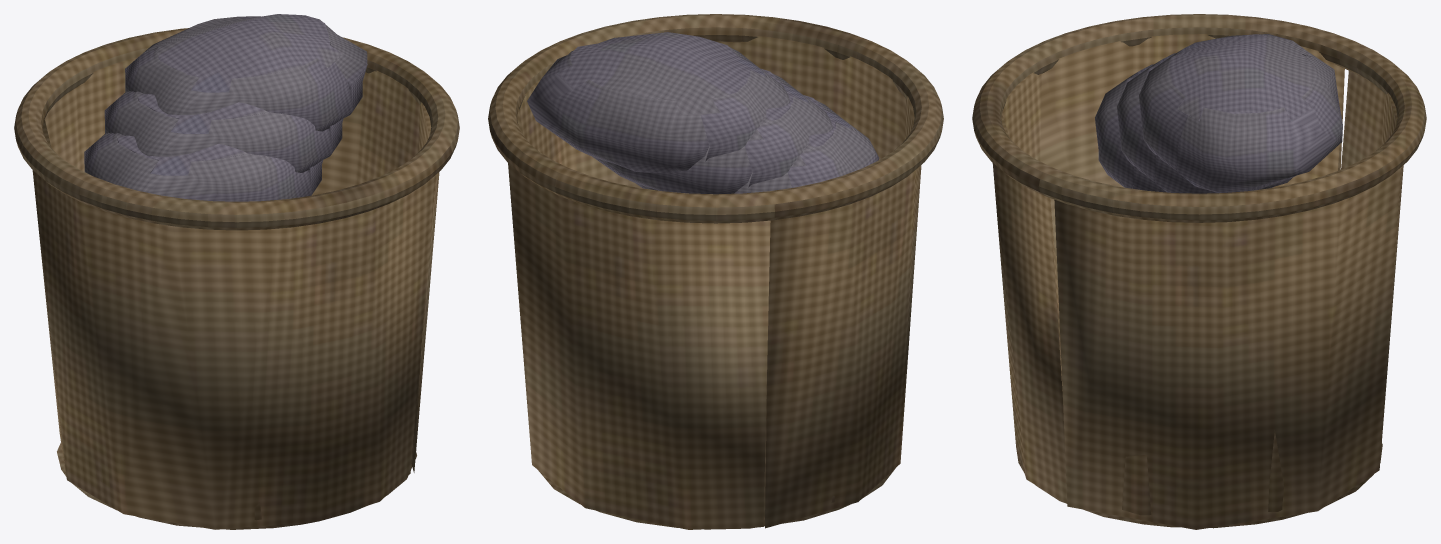
Rendered from B25_LaundryBasket.glb.
3 renders of one model, left to right at view 1: azimuth 30°, elevation 25°; view 2: azimuth 150°, elevation 25°; view 3: azimuth 270°, elevation 25°, orthographic. The views are drawn at different scales.
Visible parts, largest first — view 1: B25_LaundryBasket; view 2: B25_LaundryBasket; view 3: B25_LaundryBasket.
Part boxes in pixels (x1,y1,x2,y2): B25_LaundryBasket: [14, 14, 459, 529]; B25_LaundryBasket: [488, 14, 943, 529]; B25_LaundryBasket: [972, 14, 1426, 529].
Size of the model in its own units: 0.5963 by 0.6002 by 0.5963.
Materials: 2 (2 with a texture image).
